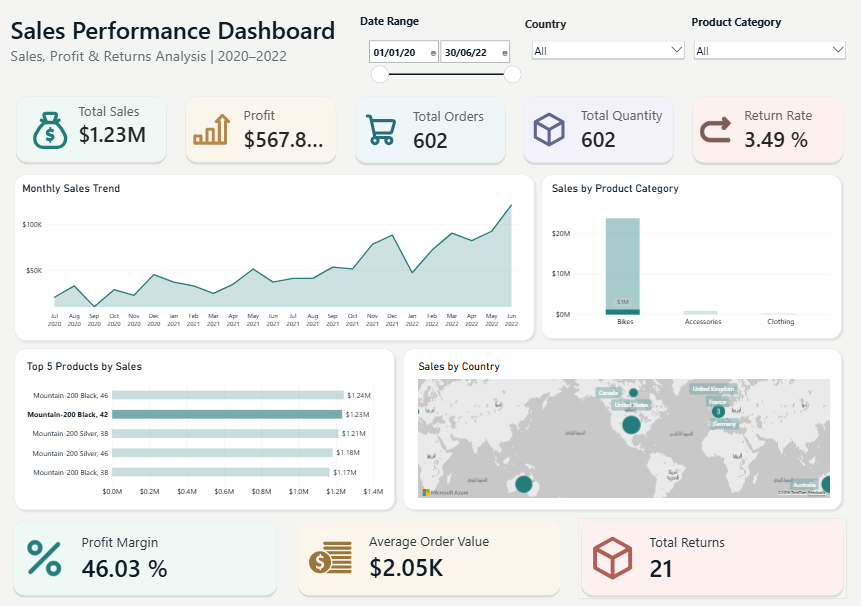

The dashboard page shown, as its layout file describes it:
{"tool":"powerbi","page":{"name":"Page 1","canvas":[1920,1360],"ordinal":0},"visuals":[{"type":"textbox","title":"Sales Performance Dashboard","box":[30,42.5,745,172.5],"z":0,"group":"g10"},{"type":"group","id":"g1","title":"Group 1","box":[807.1,32.5,1085.7,174.3],"z":1000,"group":"g10"},{"type":"cardVisual","fields":{"Data":["Sales.Total Sales"]},"box":[40,191.9,346.3,157.9],"z":1000,"group":"g2"},{"type":"shape","box":[40,358.6,1018.4,384.2],"z":1000,"group":"g6"},{"type":"clusteredBarChart","title":"Top 5 Products by Sales","fields":{"Category":["Product Lookup.ProductName"],"Y":["Sales.Total Sales"]},"box":[90,800,670,230],"z":1000},{"type":"group","id":"g2","title":"Group 3","box":[40,191.9,1850,161.7],"z":2000,"group":"g10"},{"type":"lineChart","title":"Monthly Sales Trend","fields":{"Category":["Calendar Lookup.Date.Variation.Date Hierarchy.Year","Calendar Lookup.Date.Variation.Date Hierarchy.Month"],"Y":["Sales.Total Sales"]},"box":[60.8,374.9,980.1,350.8],"z":2000,"group":"g6"},{"type":"cardVisual","fields":{"Data":["Sales.Profit"]},"box":[415.9,191.9,346.3,157.6],"z":3000,"group":"g2"},{"type":"group","id":"g3","title":"Group 7","box":[40,358.6,1850,384.2],"z":3000,"group":"g10"},{"type":"cardVisual","fields":{"Data":["Sales.Profit Margin %"]},"box":[40,1136.9,596.2,176.7],"z":3000,"group":"g5"},{"type":"cardVisual","fields":{"Data":["Sales.Total Orders"]},"box":[791.9,191.9,346.3,159.1],"z":4000,"group":"g2"},{"type":"group","id":"g4","title":"Group 8","box":[40,743.6,1849.2,376.7],"z":4000,"group":"g10"},{"type":"cardVisual","fields":{"Data":["Sales.Total Quantity"]},"box":[1167.8,191.9,346.3,158.6],"z":5000,"group":"g2"},{"type":"shape","box":[901.8,743.6,987.4,376.7],"z":5000,"group":"g9"},{"type":"group","id":"g5","title":"Group 9","box":[40,1136.9,1850,176.7],"z":5000,"group":"g10"},{"type":"cardVisual","fields":{"Data":["Sales.Average Order Value"]},"box":[671.3,1136.9,591.8,176.7],"z":5000,"group":"g5"},{"type":"slicer","fields":{"Values":["Calendar Lookup.Date"]},"box":[820.3,89,348.4,120.3],"z":6000,"group":"g1"},{"type":"group","id":"g6","title":"Group 2","box":[40,358.6,1018.4,384.2],"z":6000,"group":"g3"},{"type":"shape","box":[1059.1,359.3,830.9,383.5],"z":6000,"group":"g7"},{"type":"cardVisual","fields":{"Data":["Sales.Return Rate %"]},"box":[1543.7,191.9,346.3,158.6],"z":7000,"group":"g2"},{"type":"group","id":"g7","title":"Group 4","box":[1059.1,359.3,830.9,383.5],"z":7000,"group":"g3"},{"type":"clusteredColumnChart","title":"Sales by Product Category","fields":{"Category":["Product Categories Lookup.CategoryName"],"Y":["Sales.Total Sales"]},"box":[1079.3,375.6,792.6,350.8],"z":7000,"group":"g7"},{"type":"cardVisual","fields":{"Data":["Returns Data.Total Returns"]},"box":[1298.2,1136.9,591.8,176.7],"z":7000,"group":"g5"},{"type":"shape","box":[40,745.3,861.8,375],"z":7001,"group":"g8"},{"type":"slicer","fields":{"Values":["Territory Lookup.Country"]},"box":[1182.2,89,349.6,120.3],"z":8000,"group":"g1"},{"type":"group","id":"g8","title":"Group 5","box":[40,745.3,861.8,375],"z":8000,"group":"g11"},{"type":"slicer","fields":{"Values":["Product Categories Lookup.CategoryName"]},"box":[1545.3,89,348.4,120.3],"z":9000,"group":"g1"},{"type":"azureMap","title":"Sales by Country","fields":{"Category":["Territory Lookup.Country"],"Size":["Sales.Total Sales"]},"box":[927.2,763.7,941.5,336.5],"z":9000,"group":"g9"},{"type":"group","id":"g9","title":"Group 6","box":[901.8,743.6,987.4,376.7],"z":9001,"group":"g11"},{"type":"clusteredBarChart","title":"Top 5 Products by Sales","fields":{"Category":["Product Lookup.ProductName"],"Y":["Sales.Total Sales"]},"box":[59.8,766.5,822.8,336.5],"z":9001,"group":"g8"},{"type":"group","id":"g10","title":"Group 10","box":[30,32.5,1862.9,1281.1],"z":9002},{"type":"group","id":"g11","title":"Group 11","box":[40,743.6,1849.2,376.7],"z":9003,"group":"g4"},{"type":"textbox","box":[807.1,32.5,361.2,61.8],"z":10000,"group":"g1"},{"type":"textbox","box":[1174.8,40.2,361.2,54.1],"z":11000,"group":"g1"},{"type":"textbox","box":[1542.5,36.4,351.1,57.9],"z":12000,"group":"g1"}]}

Visuals, with their boxes in screenshot pixels (x1, y1, x2, y2), scaled from the page's 1920x1360 canvas onto the 861x606 screenshot:
"Sales Performance Dashboard" textbox: bbox(13, 19, 348, 96)
"Group 1" group: bbox(362, 14, 849, 92)
cardVisual - Sales.Total Sales: bbox(18, 86, 173, 156)
shape: bbox(18, 160, 475, 331)
"Top 5 Products by Sales" clusteredBarChart: bbox(40, 356, 341, 459)
"Group 3" group: bbox(18, 86, 848, 158)
"Monthly Sales Trend" lineChart: bbox(27, 167, 467, 323)
cardVisual - Sales.Profit: bbox(187, 86, 342, 156)
"Group 7" group: bbox(18, 160, 848, 331)
cardVisual - Sales.Profit Margin %: bbox(18, 507, 285, 585)
cardVisual - Sales.Total Orders: bbox(355, 86, 510, 156)
"Group 8" group: bbox(18, 331, 847, 499)
cardVisual - Sales.Total Quantity: bbox(524, 86, 679, 156)
shape: bbox(404, 331, 847, 499)
"Group 9" group: bbox(18, 507, 848, 585)
cardVisual - Sales.Average Order Value: bbox(301, 507, 566, 585)
slicer - Calendar Lookup.Date: bbox(368, 40, 524, 93)
"Group 2" group: bbox(18, 160, 475, 331)
shape: bbox(475, 160, 848, 331)
cardVisual - Sales.Return Rate %: bbox(692, 86, 848, 156)
"Group 4" group: bbox(475, 160, 848, 331)
"Sales by Product Category" clusteredColumnChart: bbox(484, 167, 839, 324)
cardVisual - Returns Data.Total Returns: bbox(582, 507, 848, 585)
shape: bbox(18, 332, 404, 499)
slicer - Territory Lookup.Country: bbox(530, 40, 687, 93)
"Group 5" group: bbox(18, 332, 404, 499)
slicer - Product Categories Lookup.CategoryName: bbox(693, 40, 849, 93)
"Sales by Country" azureMap: bbox(416, 340, 838, 490)
"Group 6" group: bbox(404, 331, 847, 499)
"Top 5 Products by Sales" clusteredBarChart: bbox(27, 342, 396, 491)
"Group 10" group: bbox(13, 14, 849, 585)
"Group 11" group: bbox(18, 331, 847, 499)
textbox: bbox(362, 14, 524, 42)
textbox: bbox(527, 18, 689, 42)
textbox: bbox(692, 16, 849, 42)
